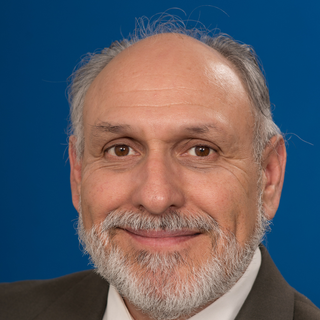eye: (171, 138, 225, 164), (97, 138, 145, 164)
